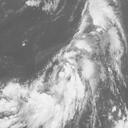cyclone: (43, 39, 97, 103)
